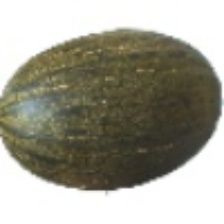honeydew: (17, 56, 167, 210)
